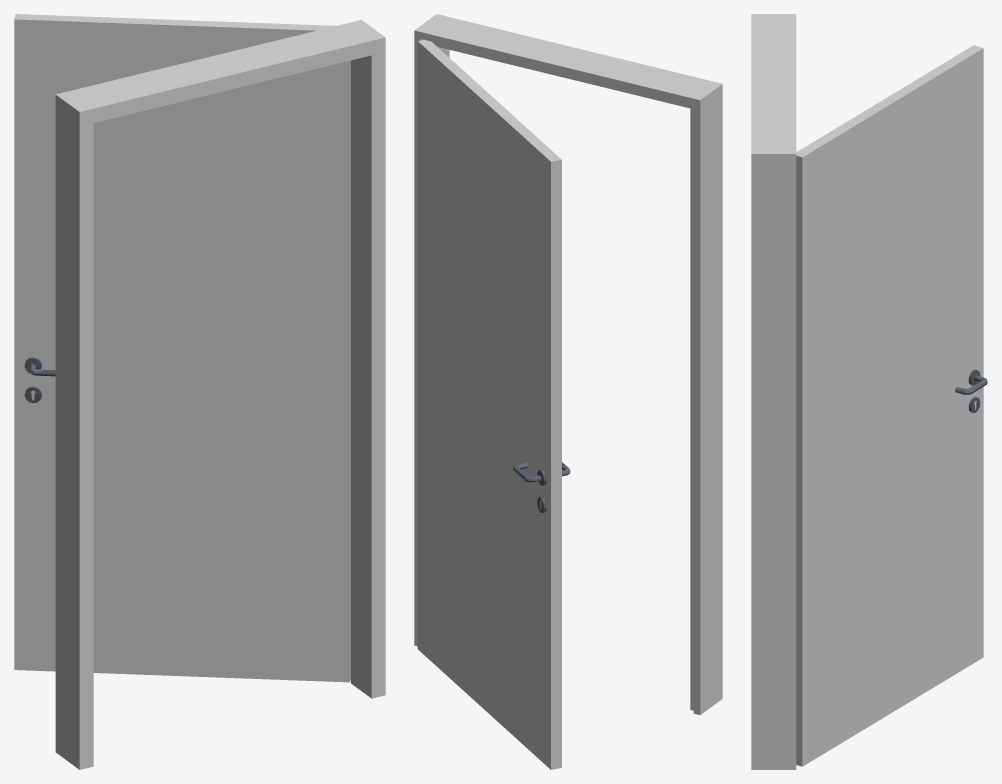
File: Tür 110 x 226.fbx
The picture shows the model from 3 angles, left to right: view 1: azimuth 30°, elevation 25°; view 2: azimuth 150°, elevation 25°; view 3: azimuth 270°, elevation 25°; orthographic projection. The views are drawn at different scales.
Parts seen in each view (by area): view 1: Fensterrahmen; view 2: Fensterrahmen, Metall Stahl, matt; view 3: Fensterrahmen, Metall Stahl, matt.
Boxes of the visible parts, x1,y1,x2,y2 form: Fensterrahmen: (14, 14, 385, 769); Fensterrahmen: (414, 14, 722, 769); Metall Stahl, matt: (513, 462, 570, 512); Fensterrahmen: (751, 14, 983, 769); Metall Stahl, matt: (955, 369, 987, 412).
Size of the model in its own units: 110 by 78.59 by 226.
Materials: 2 (1 with a texture image).
